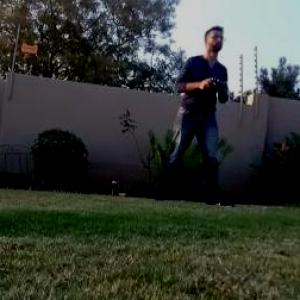follow: (154, 17, 241, 213)
